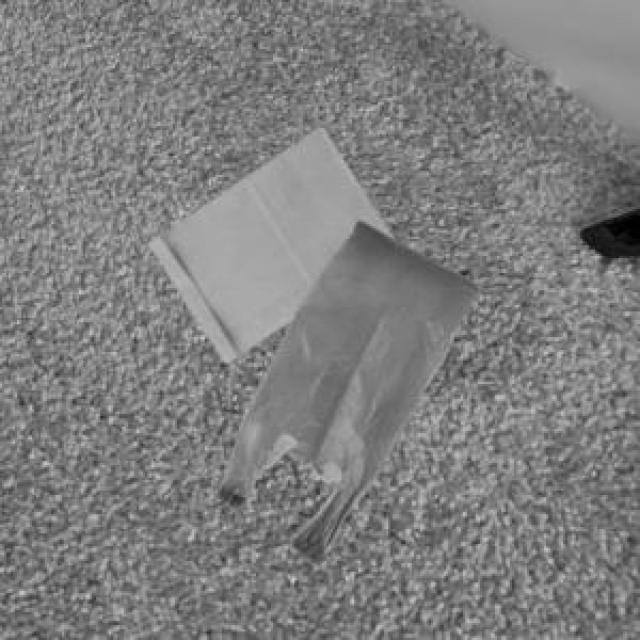paper: (147, 124, 386, 358)
